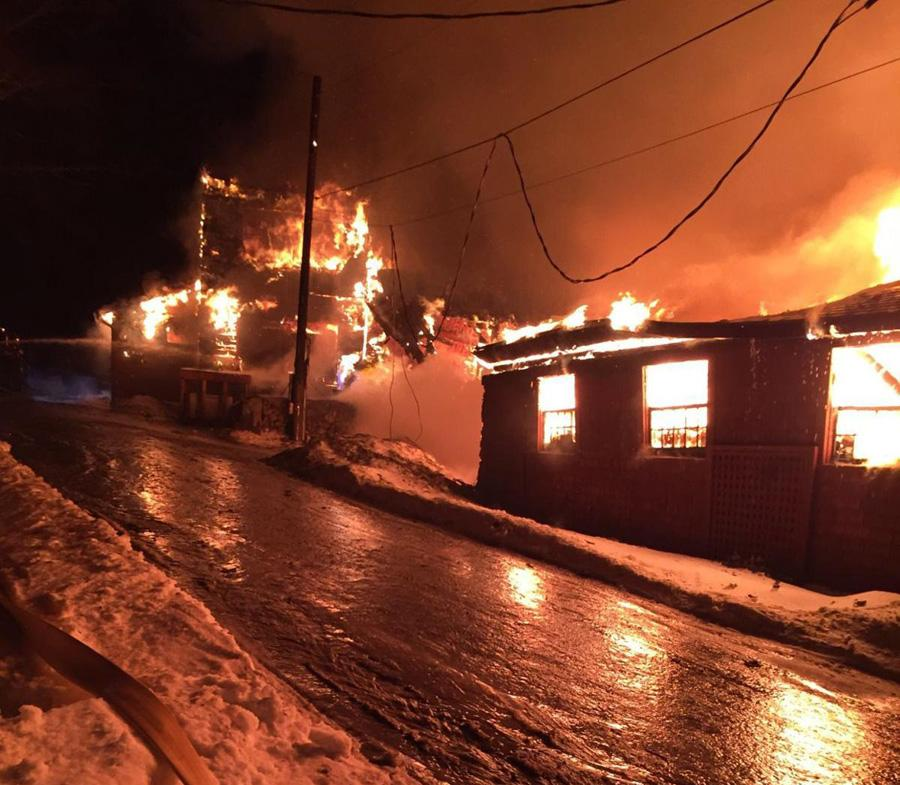Fire: (93, 154, 900, 480)
